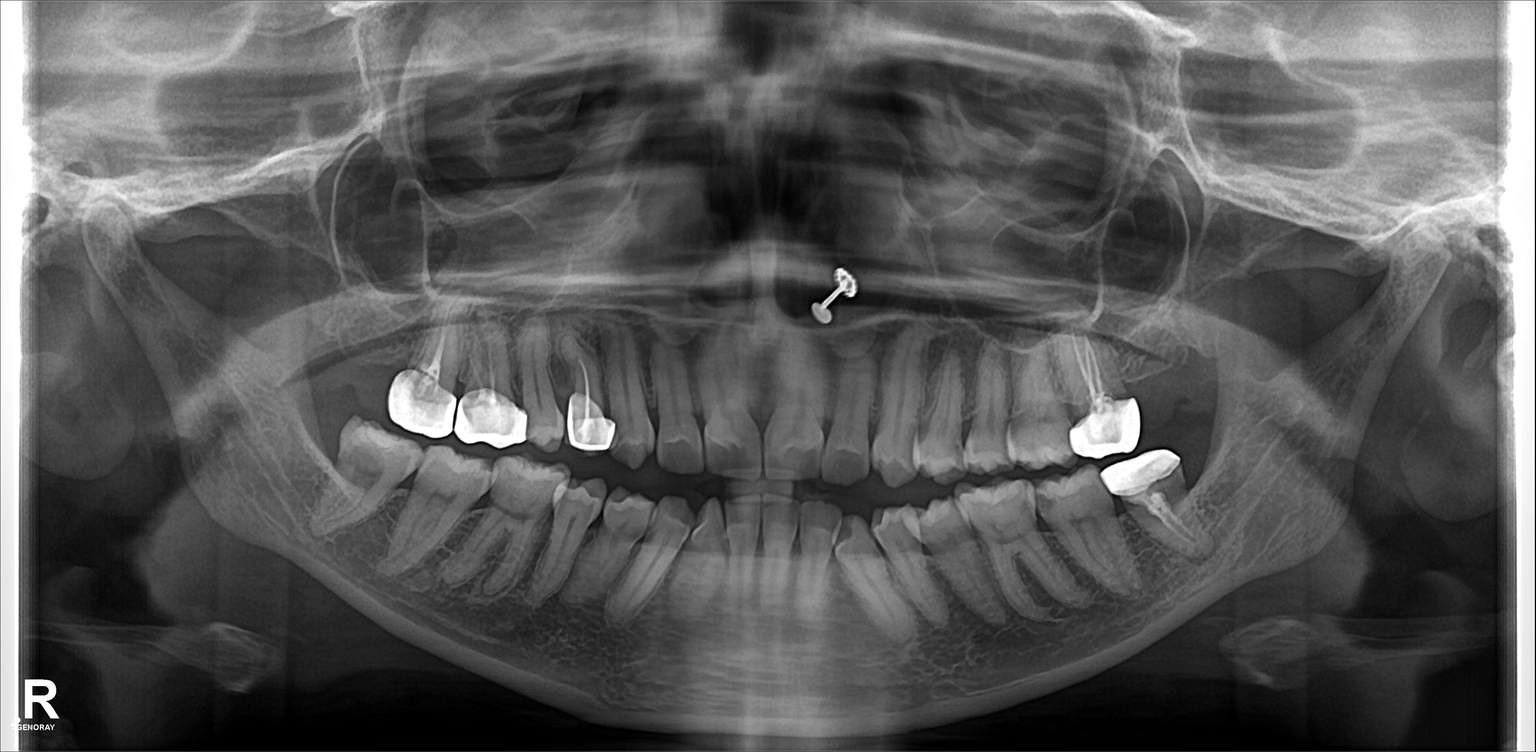Dental Caries: (708, 430, 758, 477), (654, 437, 697, 472), (341, 454, 377, 487)
Endodontically Treated Tooth: (1061, 318, 1141, 462), (1116, 463, 1201, 570), (553, 329, 620, 451), (462, 318, 520, 448), (391, 315, 454, 431)
